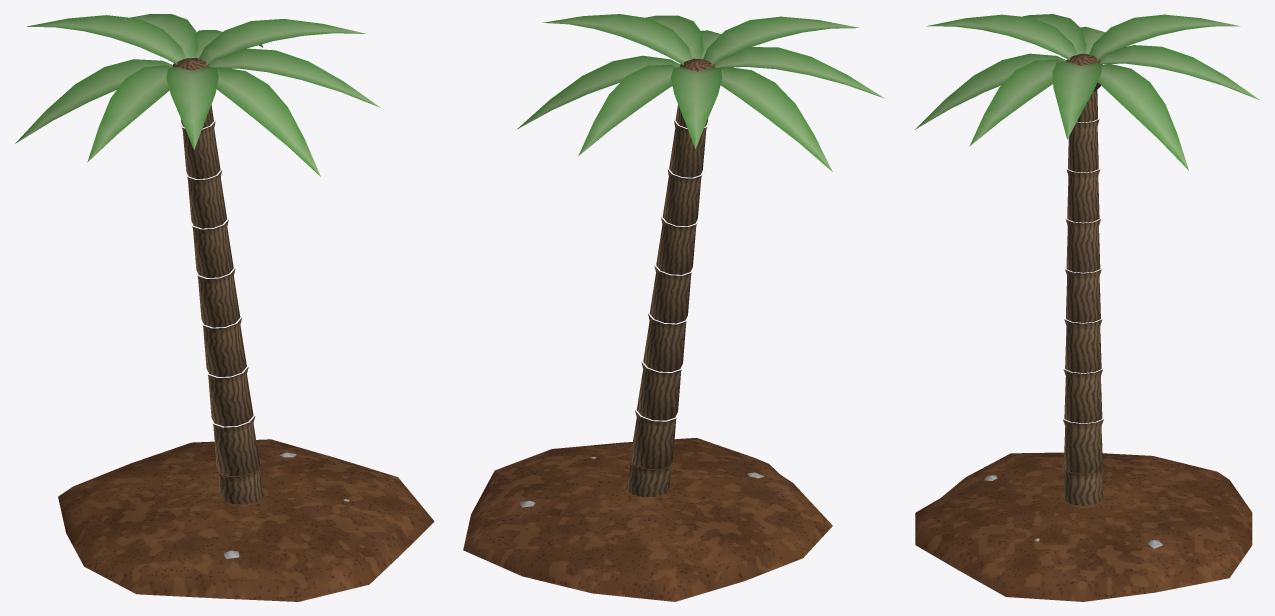
File: plant-coconut-1.glb
3 renders of one model, left to right at view 1: azimuth 30°, elevation 25°; view 2: azimuth 150°, elevation 25°; view 3: azimuth 270°, elevation 25°, orthographic. The views are drawn at different scales.
Parts seen in each view (by area): view 1: plant-coconut-1; view 2: plant-coconut-1; view 3: plant-coconut-1.
Part boxes in pixels (x1=…): plant-coconut-1: x1=15, y1=14, x2=434, y2=601; plant-coconut-1: x1=463, y1=14, x2=884, y2=601; plant-coconut-1: x1=915, y1=14, x2=1259, y2=601.
Bounding box in the file's own units: 1.16 × 1.48 × 1.
4 materials, 3 textured.
